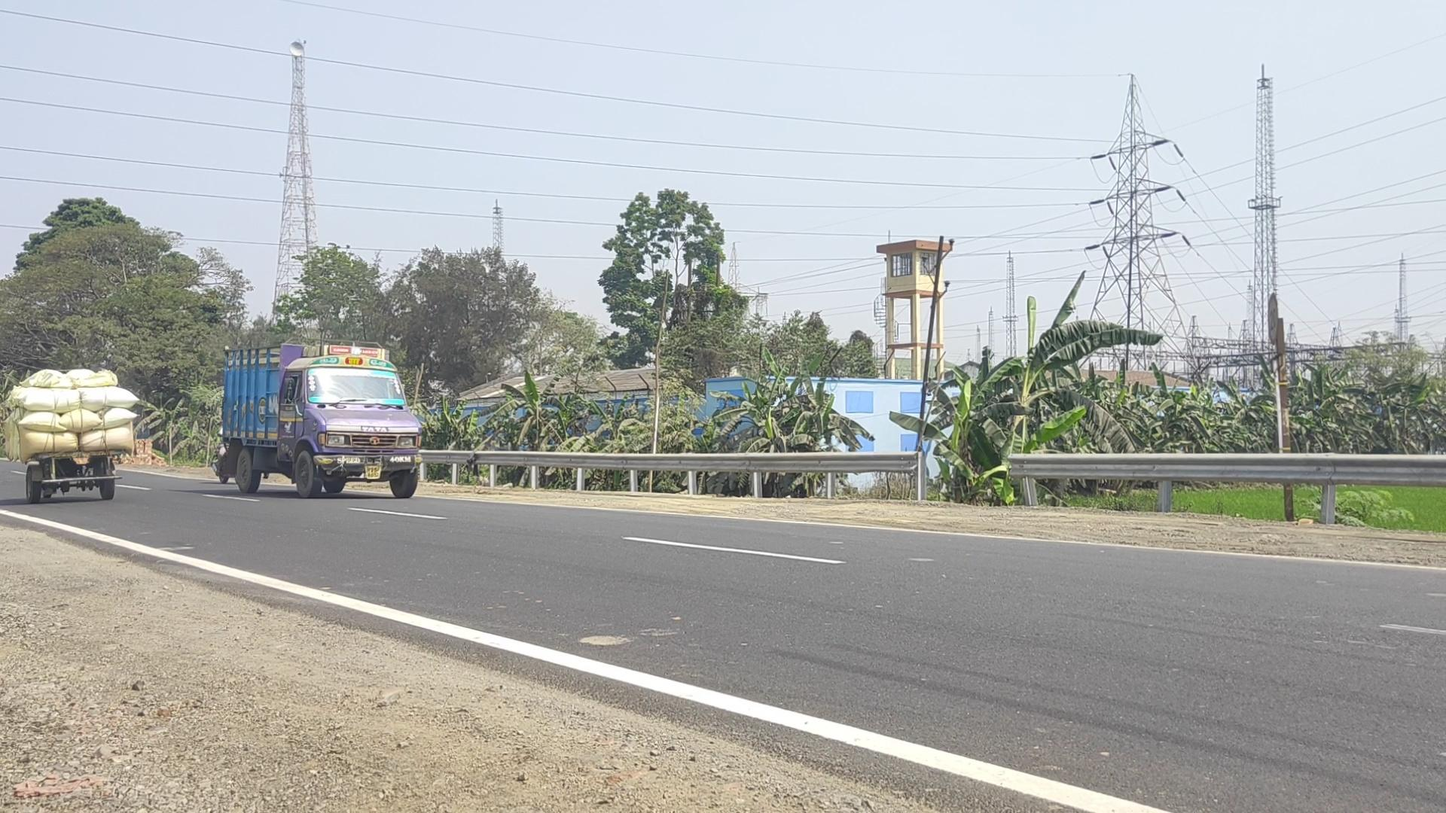truck: (219, 341, 423, 502)
